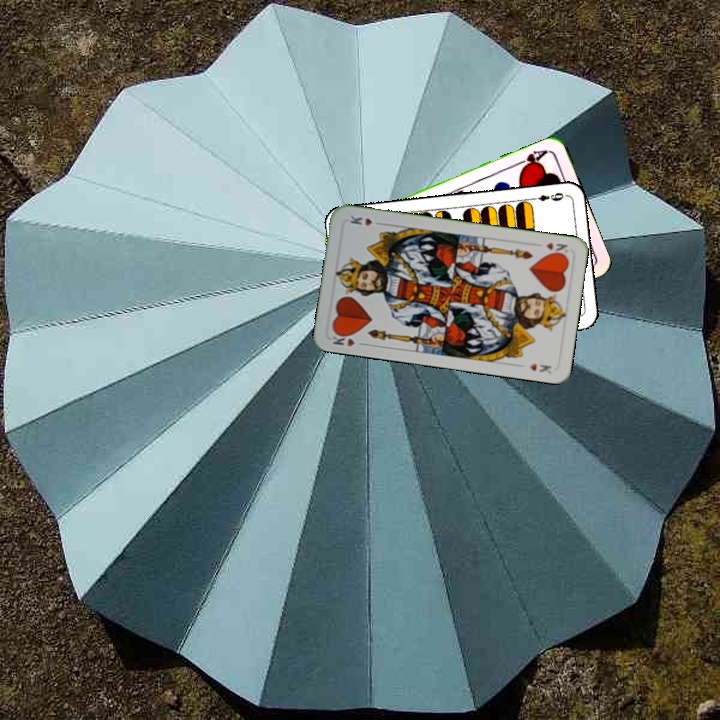E9: (527, 188, 568, 204)
HA: (512, 145, 551, 173)
HK: (328, 328, 368, 349), (542, 238, 571, 259)
